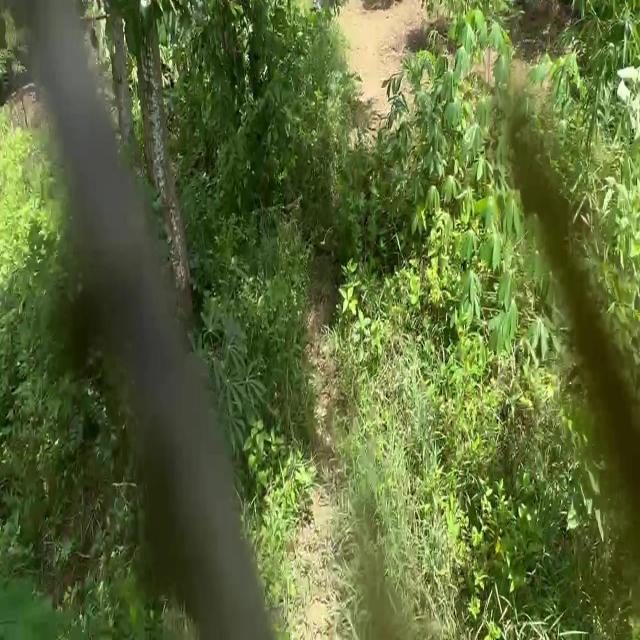Maleza: (452, 401, 610, 584), (268, 443, 448, 595), (291, 268, 429, 420), (414, 339, 516, 469)
